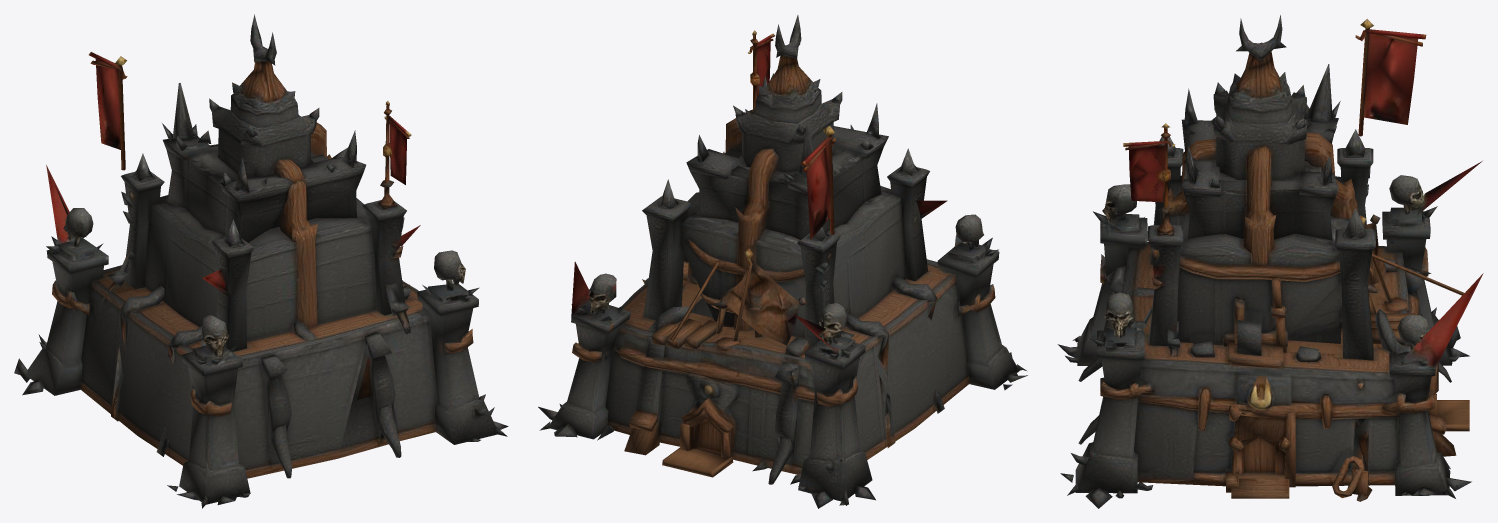
Rendered from grimtusk_stronghold.glb.
3 views of the same model, side by side, from view 1: azimuth 30°, elevation 25°; view 2: azimuth 150°, elevation 25°; view 3: azimuth 270°, elevation 25° (orthographic). The views are drawn at different scales.
Bounding box in the file's own units: 0.453 × 0.5 × 0.4726.
Materials: 1 (1 with a texture image).
